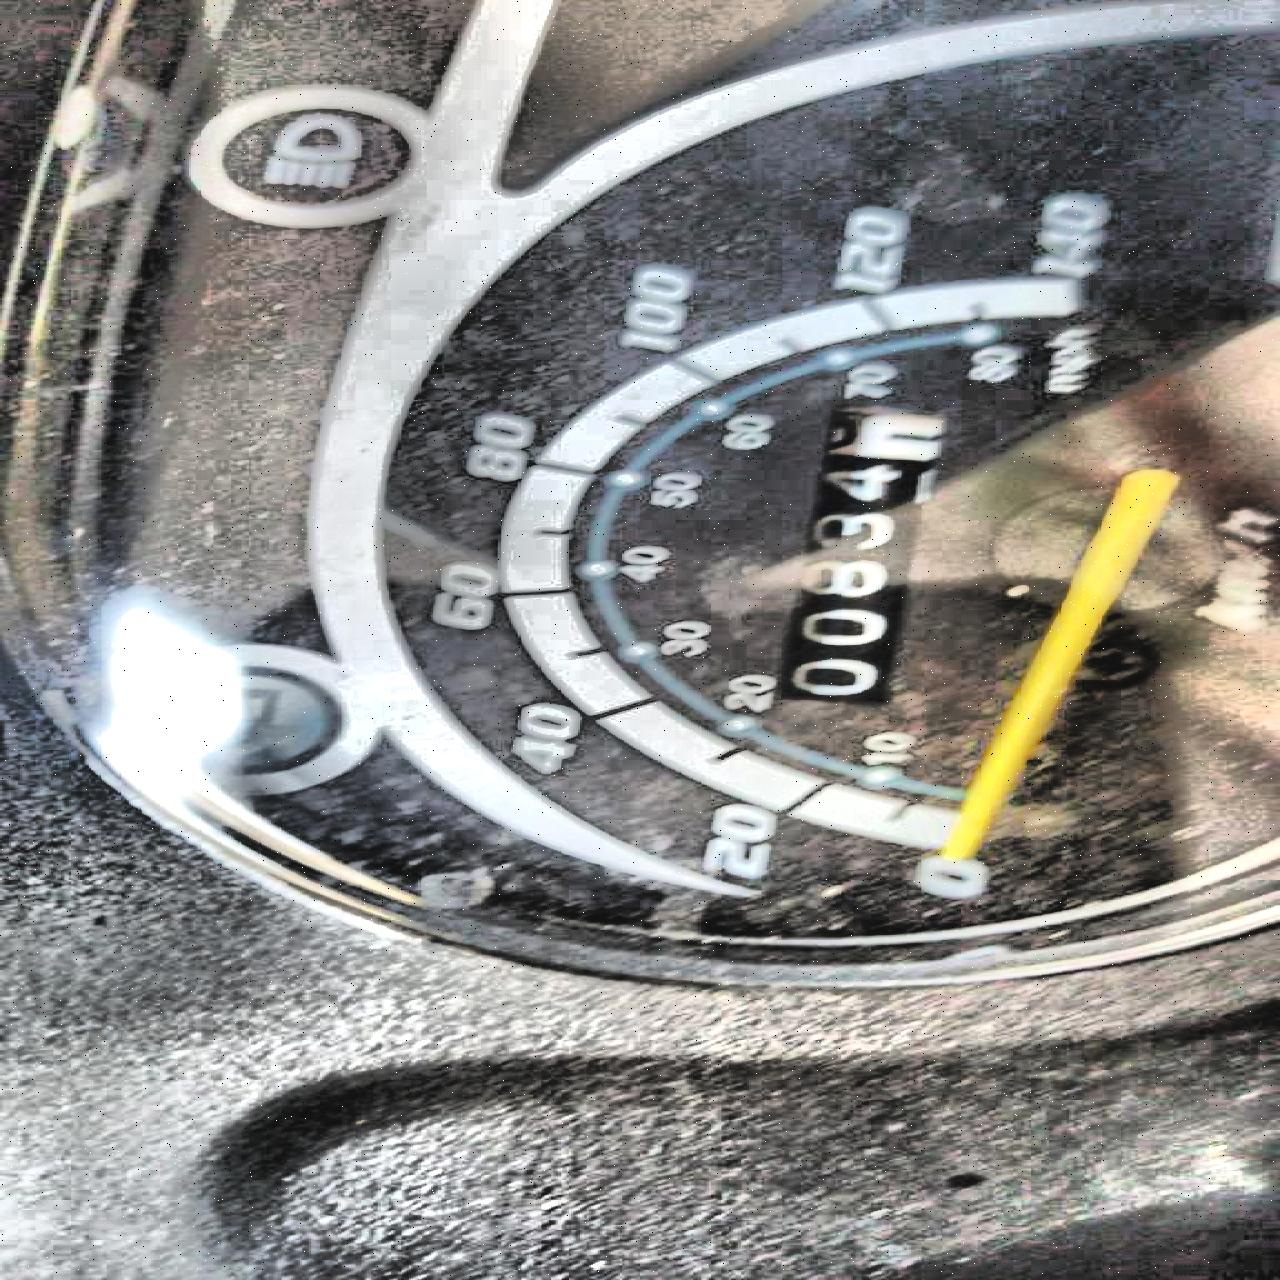0: (791, 607, 898, 645), (783, 658, 885, 696)
1: (871, 421, 953, 449)
3: (798, 508, 903, 547)
4: (806, 462, 908, 499)
8: (787, 552, 906, 597)
odometer: (762, 406, 962, 709)
